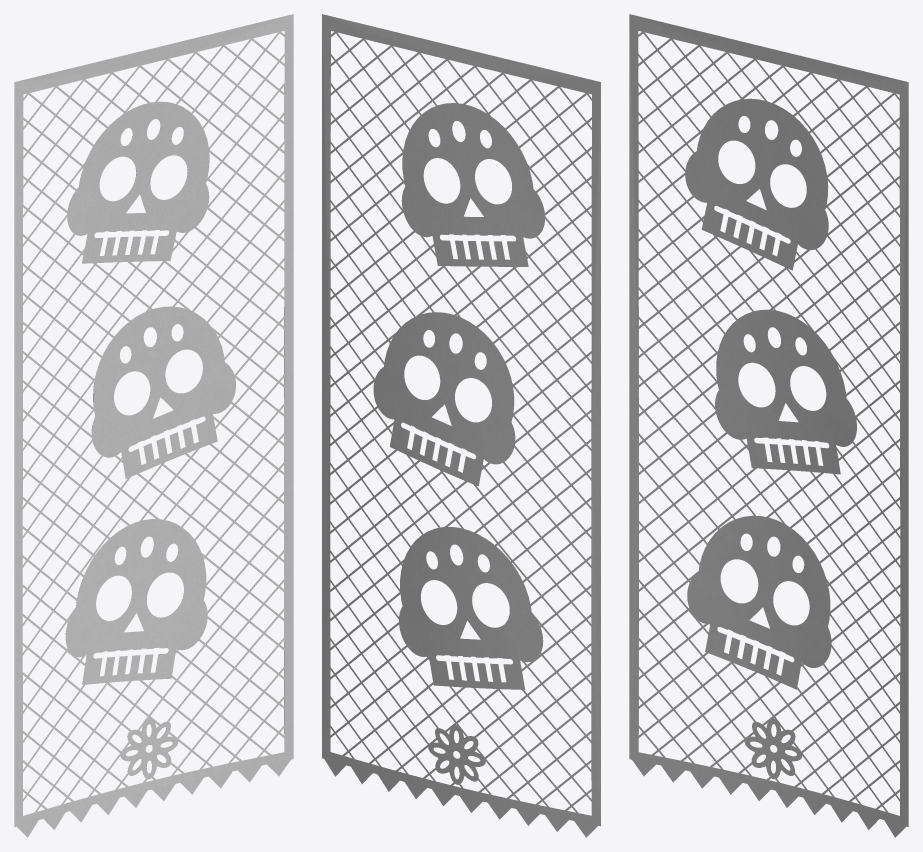
The model's file is papel_9.gltf.
The picture shows the model from 3 angles, left to right: view 1: azimuth 30°, elevation 25°; view 2: azimuth 150°, elevation 25°; view 3: azimuth 330°, elevation 25°; orthographic projection.
Visible parts, largest first — view 1: papel_9; view 2: papel_9; view 3: papel_9.
Boxes of the visible parts, left/top/right/bottom form: papel_9: left=14, top=14, right=293, bottom=837; papel_9: left=322, top=14, right=600, bottom=837; papel_9: left=629, top=14, right=908, bottom=837.
Size of the model in its own units: 0.25 by 0.65 by 0.00915.
Materials: 1 (1 with a texture image).
